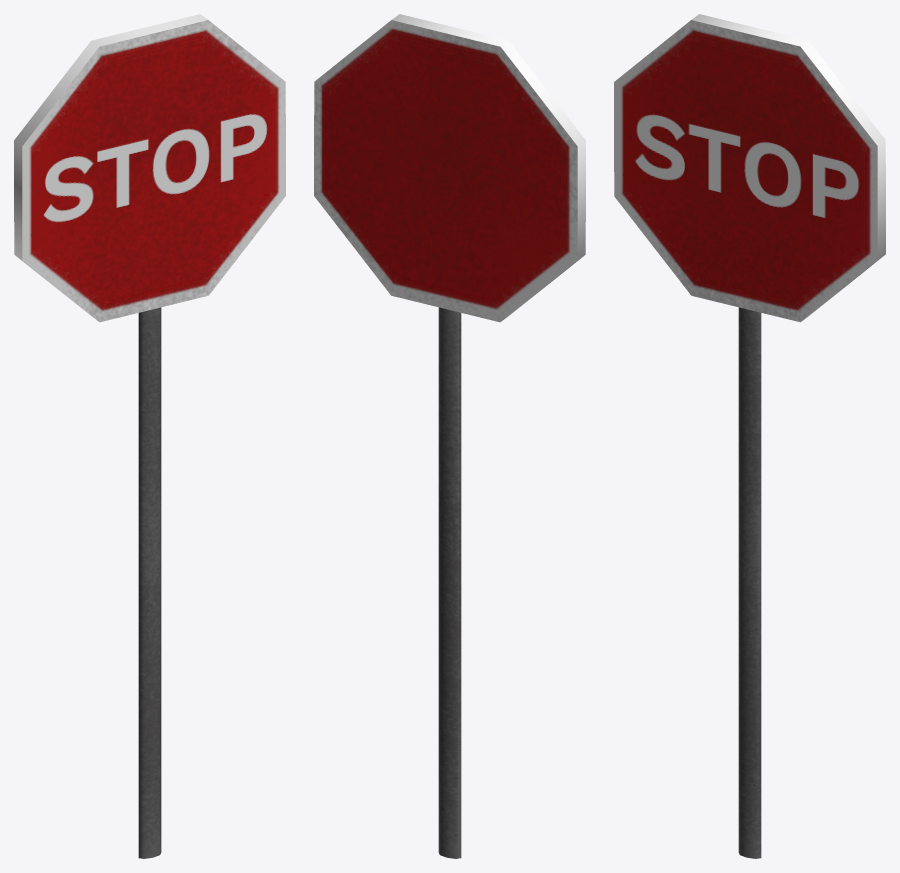
The model's file is StopSign.fbx.
3 renders of one model, left to right at view 1: azimuth 30°, elevation 25°; view 2: azimuth 150°, elevation 25°; view 3: azimuth 330°, elevation 25°, orthographic.
Parts seen in each view (by area): view 1: StopSign; view 2: StopSign; view 3: StopSign.
Part boxes in pixels (left/top/right/bottom): StopSign: left=14, top=14, right=285, bottom=858; StopSign: left=314, top=14, right=585, bottom=858; StopSign: left=614, top=14, right=885, bottom=858.
Size of the model in its own units: 136 by 406 by 7.32.
